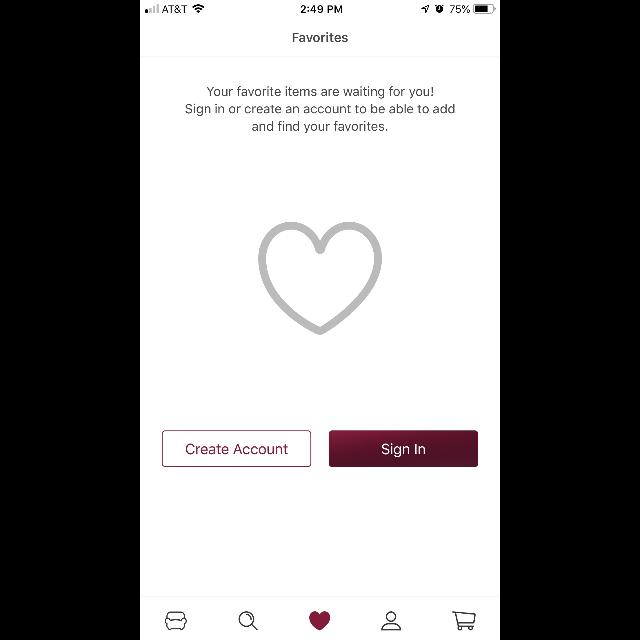icon: (258, 222, 382, 334), (452, 612, 476, 630), (238, 612, 258, 630), (310, 612, 330, 630), (381, 612, 401, 630)
image: (165, 612, 187, 630)
text: (186, 86, 454, 134), (292, 32, 348, 42)
textbutton: (162, 431, 312, 467), (329, 431, 478, 467)
uppertaskbar: (140, 0, 500, 14)
